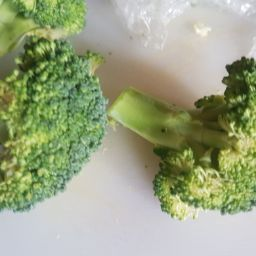Broccoli florets: (111, 41, 256, 223), (1, 33, 117, 214), (1, 1, 94, 43)
